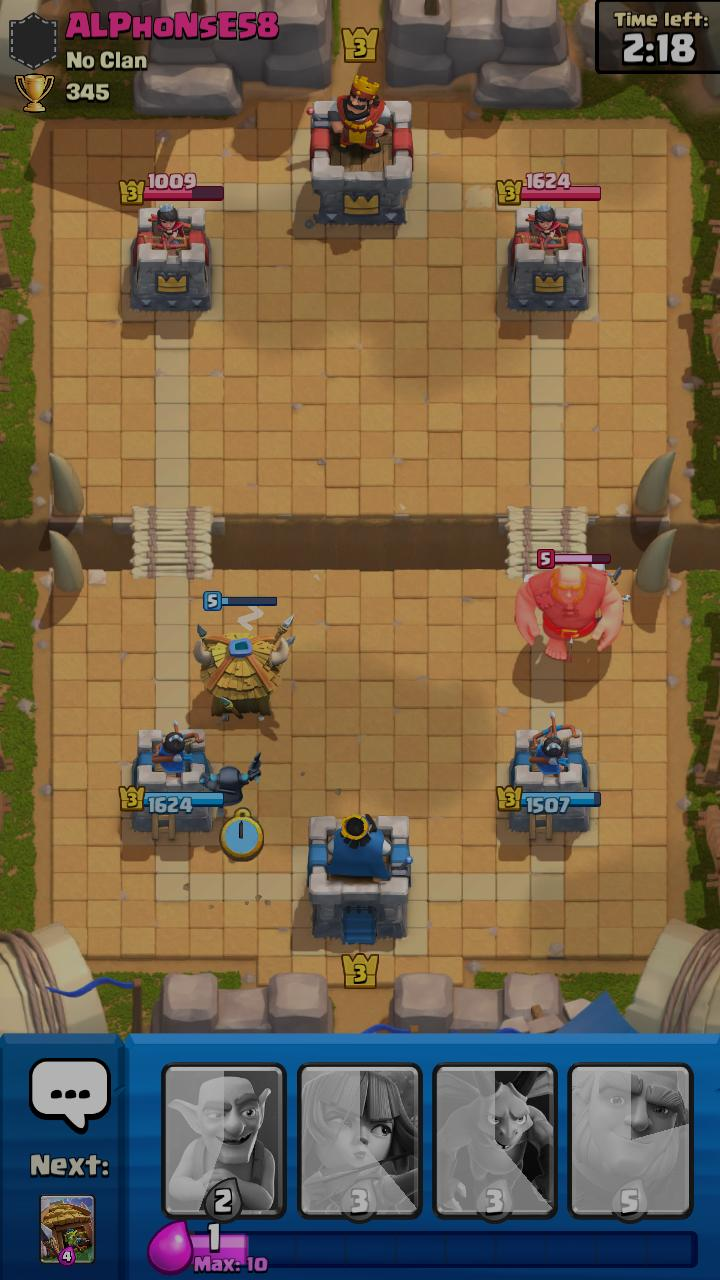ally: (194, 591, 296, 721), (200, 751, 262, 817), (596, 594, 631, 624), (591, 564, 622, 586), (523, 574, 537, 584)
enemy: (514, 549, 624, 660)
